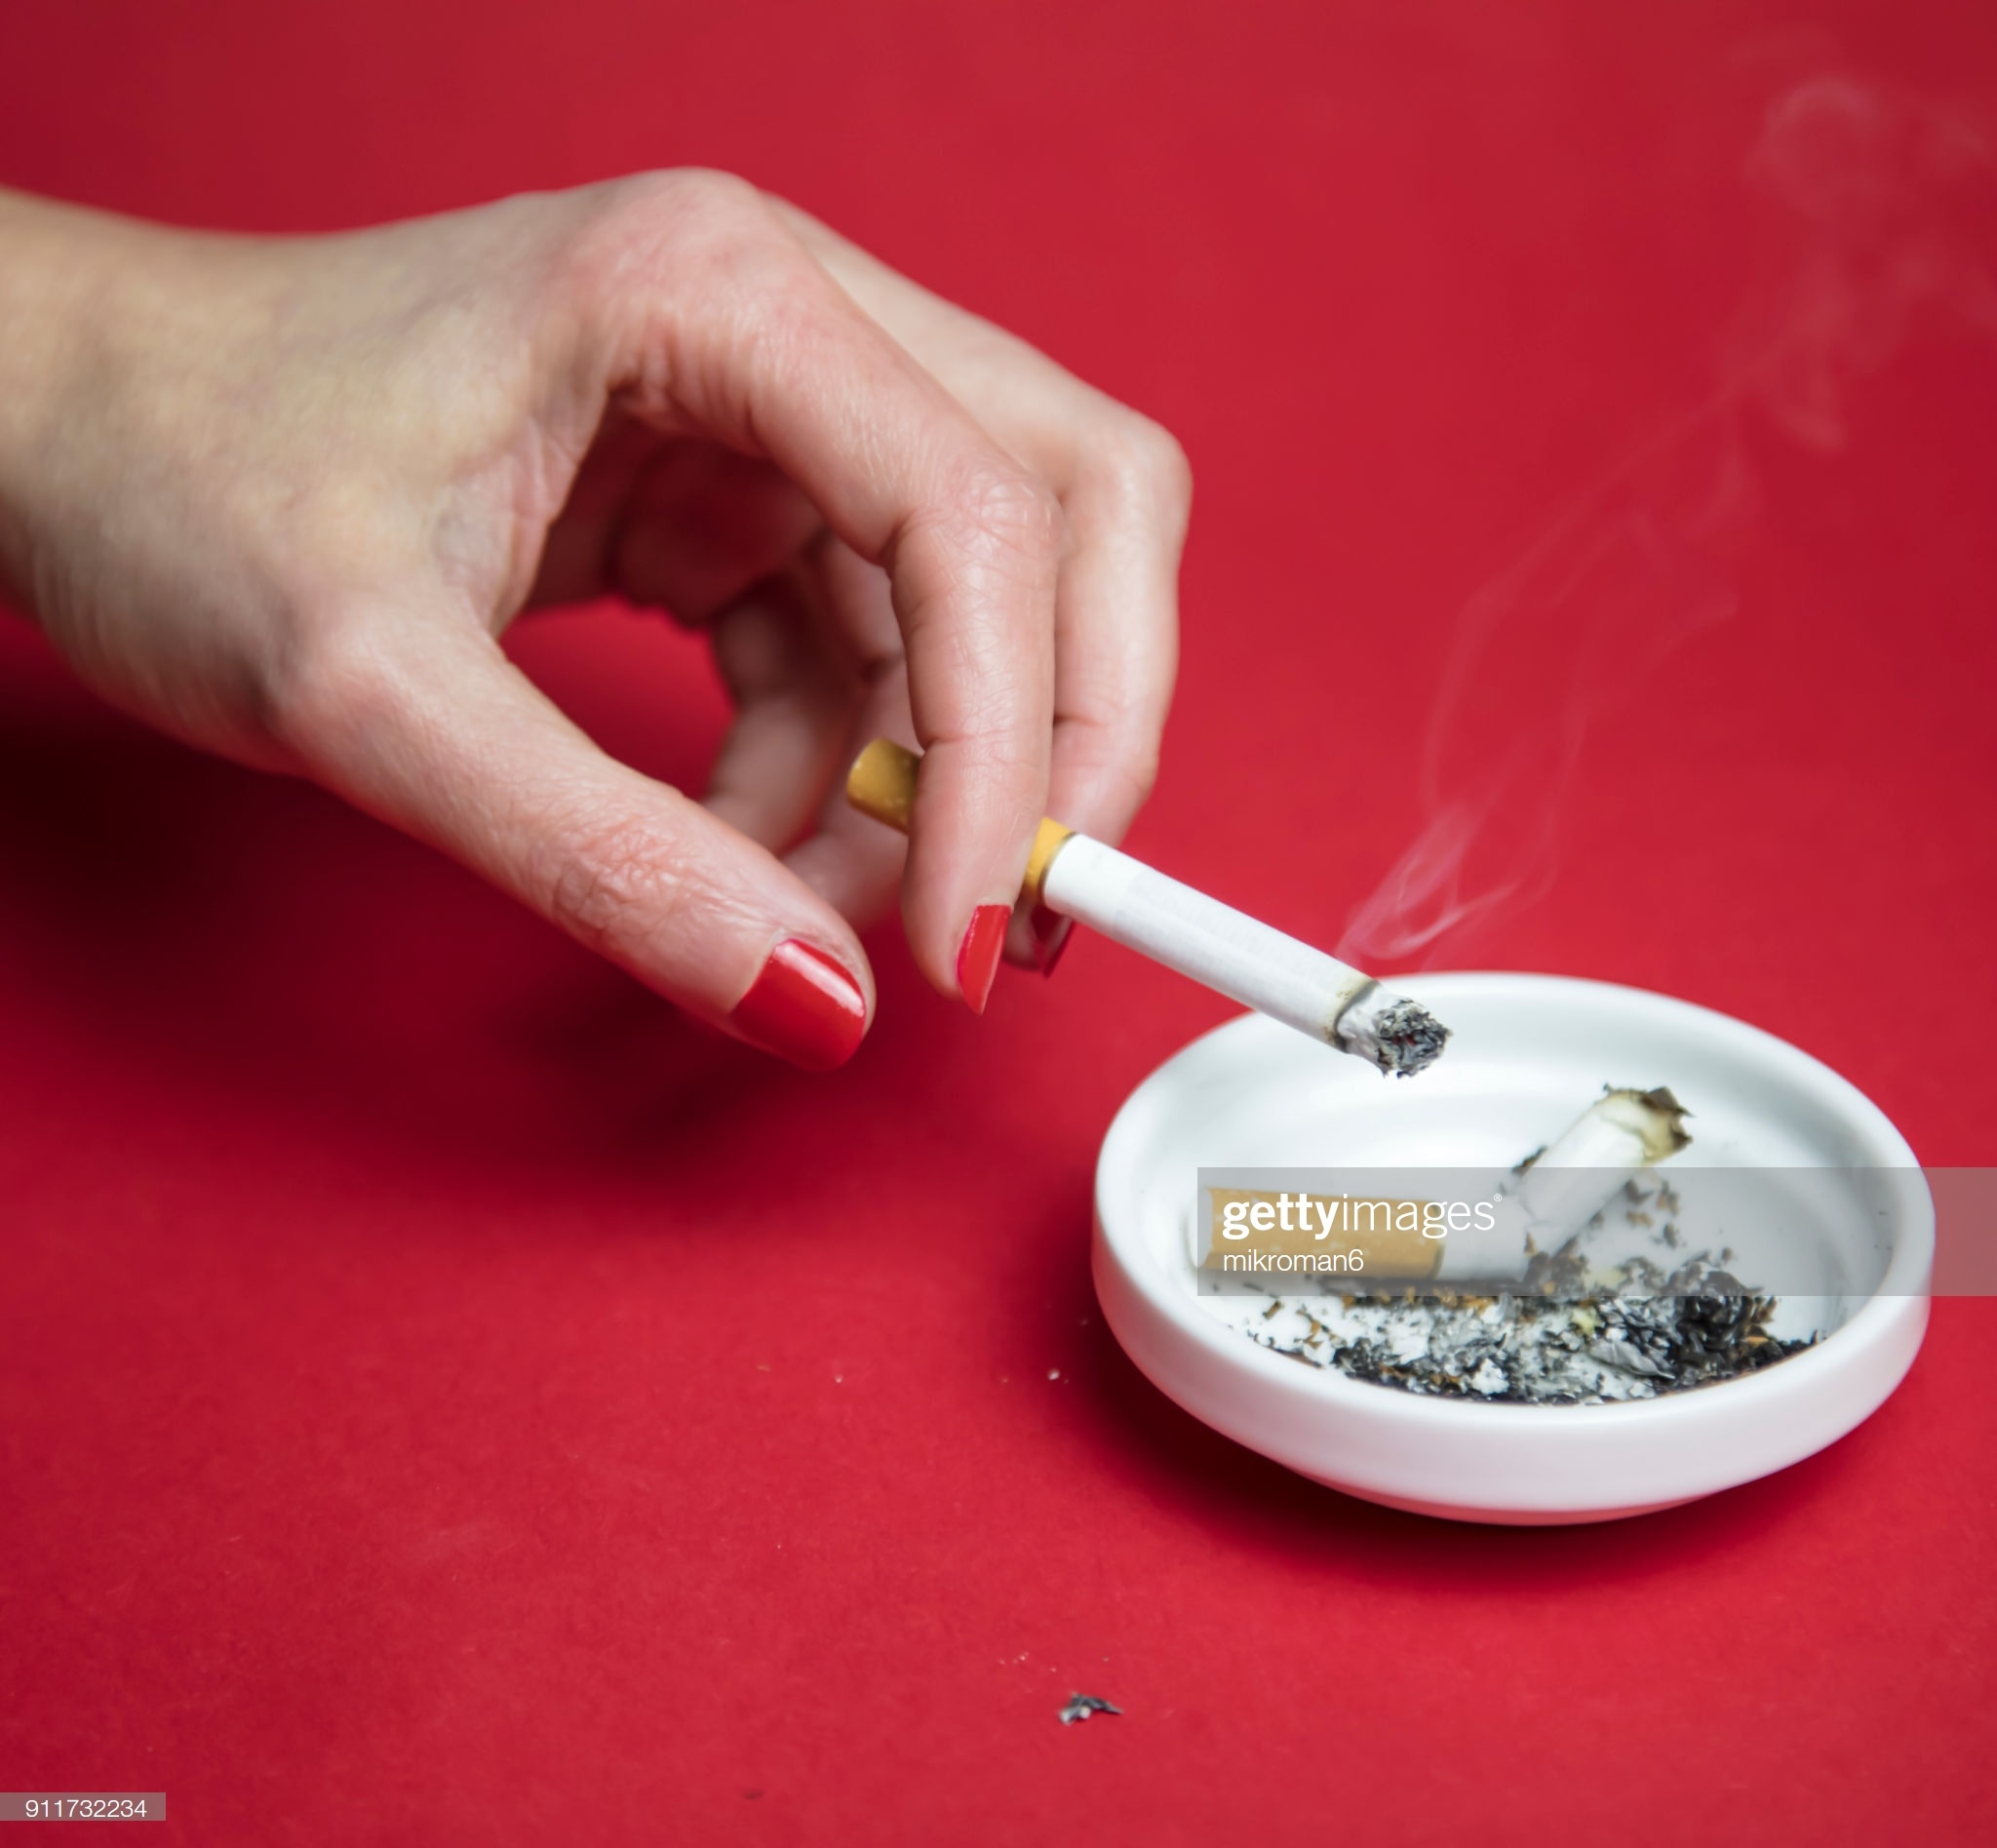sigaretta: (847, 766, 1439, 1086)
